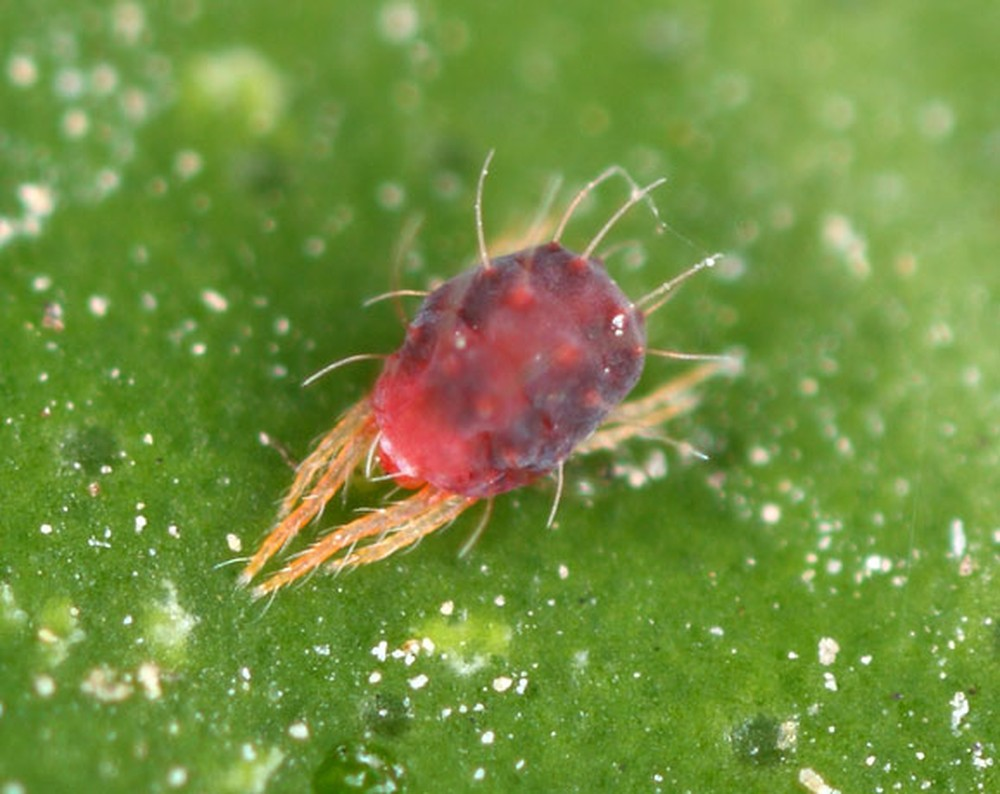Aracnido Rojo: (238, 143, 750, 597)
